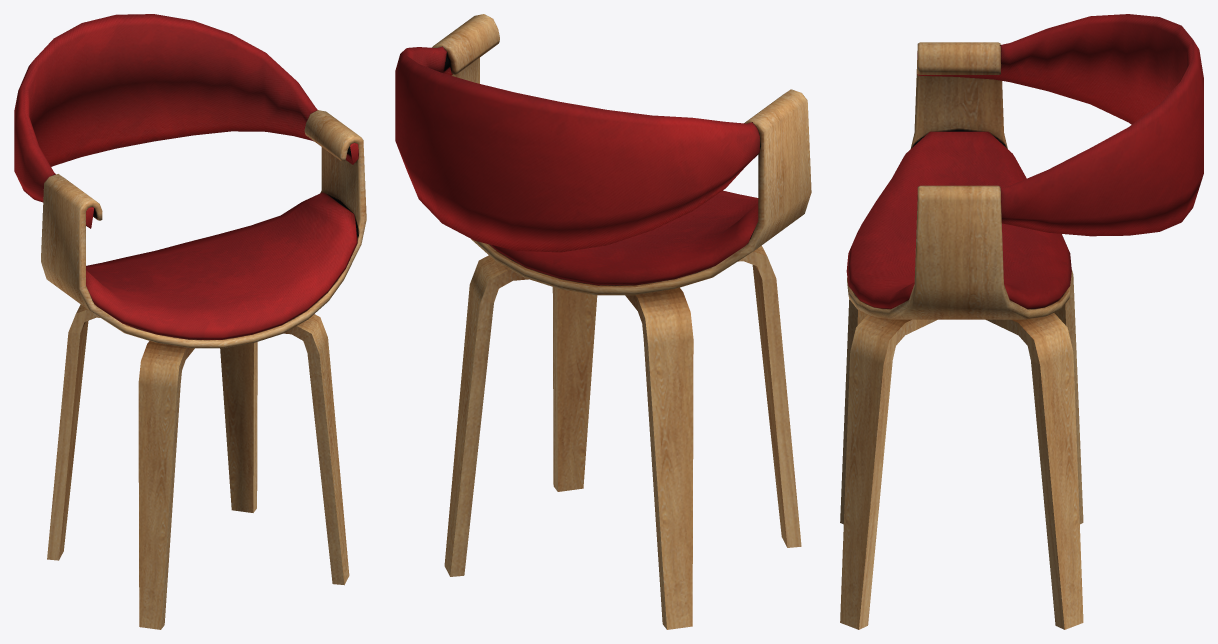
File: Arm Chair_2.fbx
The picture shows the model from 3 angles, left to right: view 1: azimuth 30°, elevation 25°; view 2: azimuth 150°, elevation 25°; view 3: azimuth 270°, elevation 25°; orthographic projection. The views are drawn at different scales.
Visible parts, largest first — view 1: Arm Chair; view 2: Arm Chair; view 3: Arm Chair.
Part boxes in pixels (x1=…): Arm Chair: x1=14, y1=14, x2=366, y2=629; Arm Chair: x1=395, y1=14, x2=811, y2=629; Arm Chair: x1=840, y1=14, x2=1203, y2=629.
Size of the model in its own units: 0.714 by 1.12 by 0.6996.
1 material, 1 textured.
